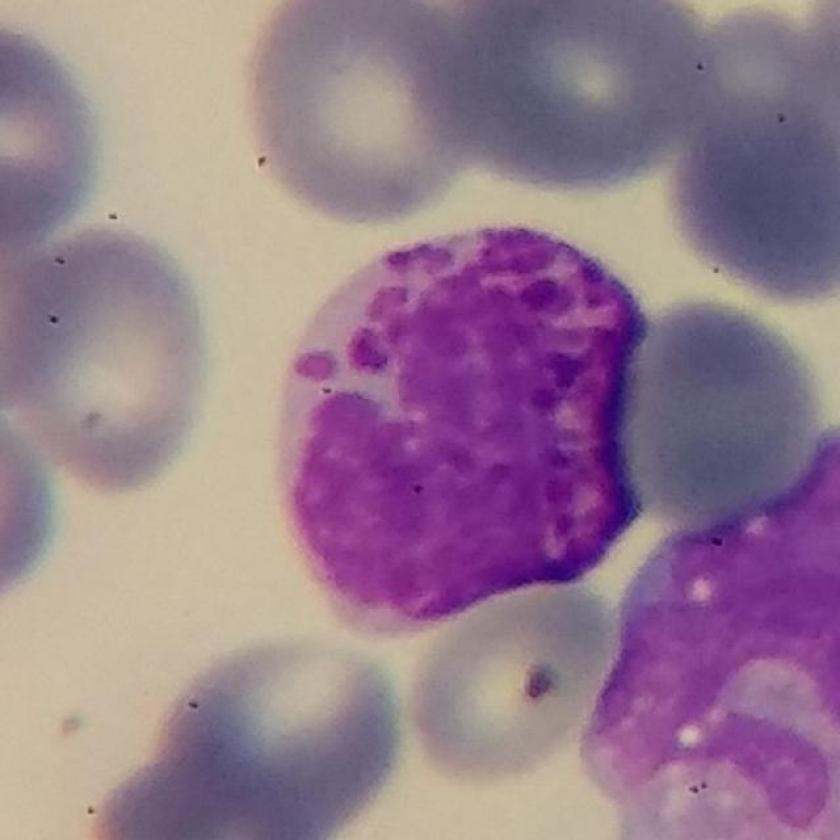basophil: (268, 207, 650, 642)
